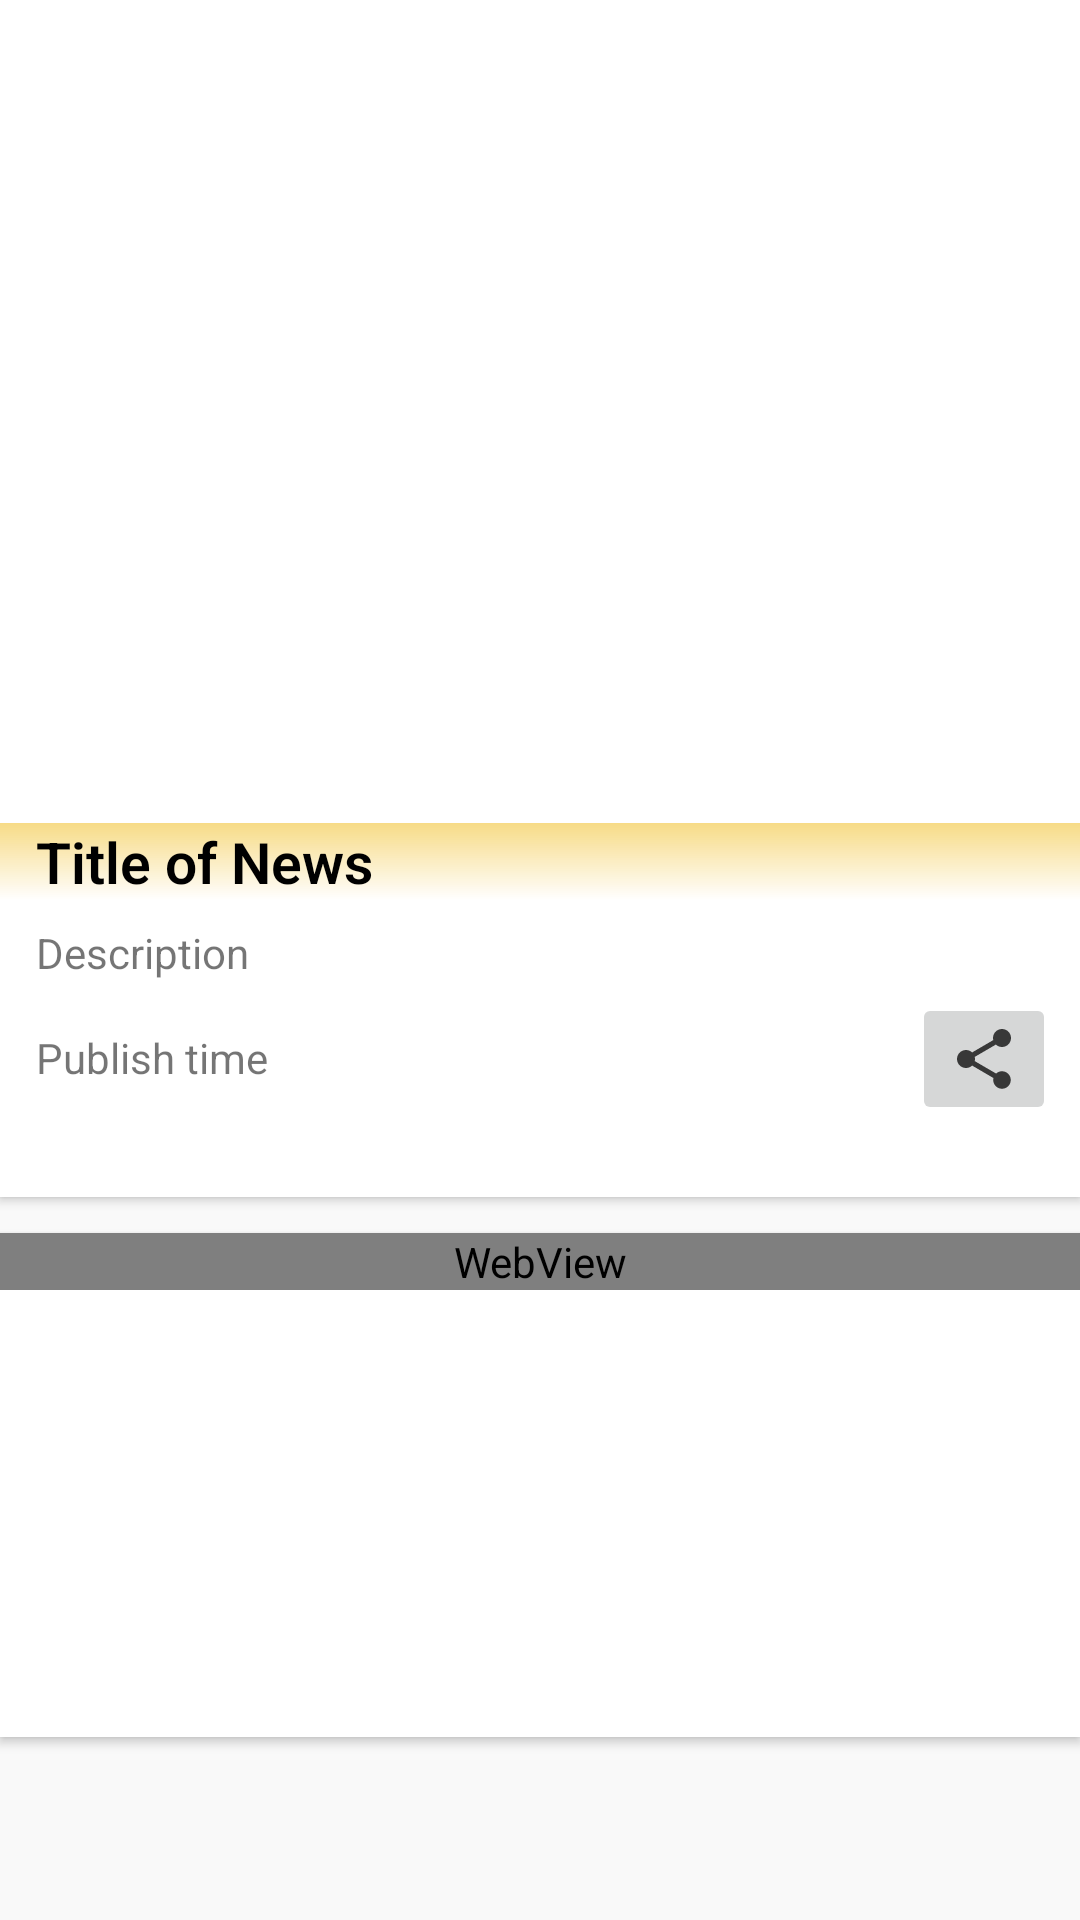

Icons on this 1080*1920 Android screen, each with the point to tap as point (x, y):
share: point (984, 1059)
